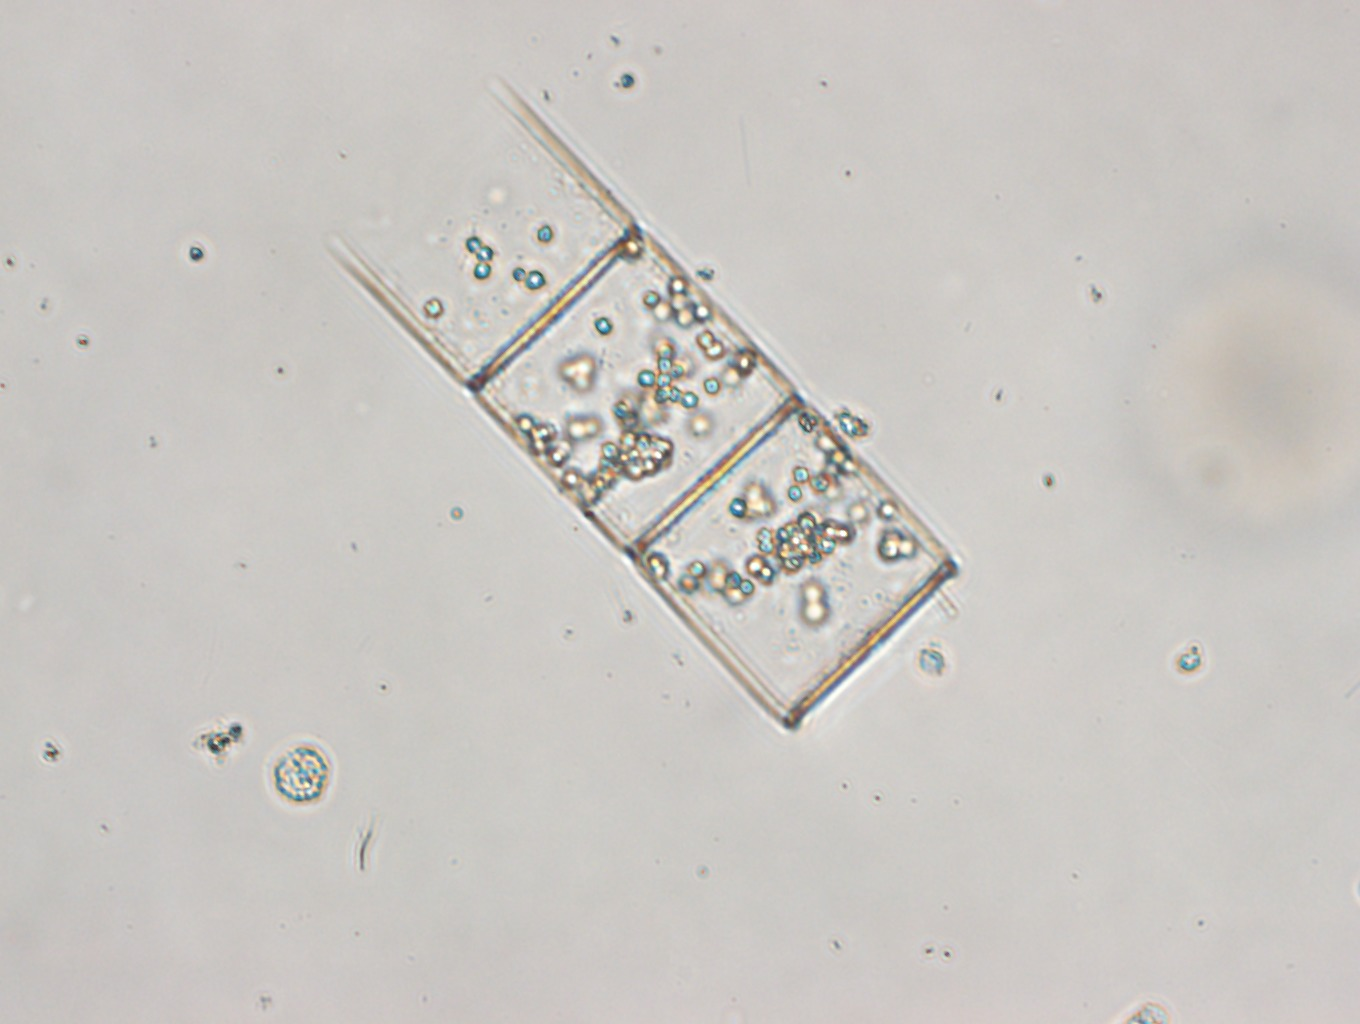guinardia flaccida: (325, 80, 960, 734)
